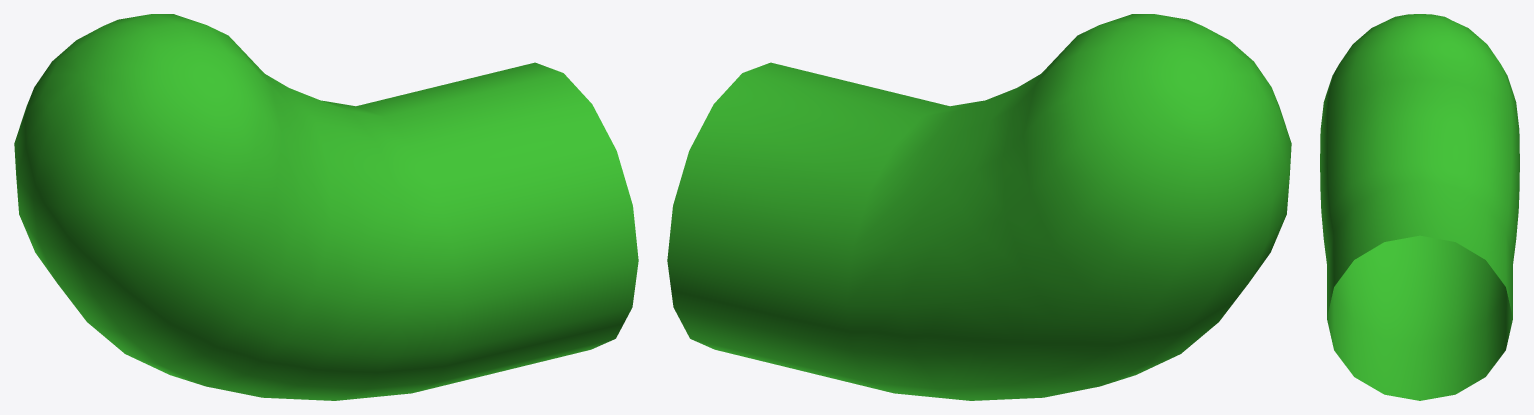
File: cactus_side.fbx
The picture shows the model from 3 angles, left to right: view 1: azimuth 30°, elevation 25°; view 2: azimuth 150°, elevation 25°; view 3: azimuth 270°, elevation 25°; orthographic projection. The views are drawn at different scales.
Visible parts, largest first — view 1: cactus_side; view 2: cactus_side; view 3: cactus_side.
Part boxes in pixels (x1,y1,x2,y2): cactus_side: (14,14,638,400); cactus_side: (667,14,1291,400); cactus_side: (1320,14,1519,400).
Size of the model in its own units: 94.77 by 70.06 by 49.52.
